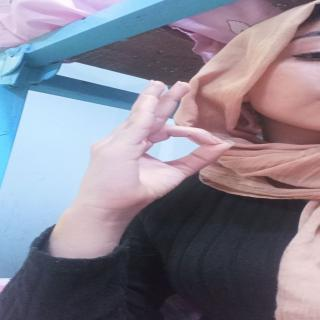Space: (81, 77, 228, 205)
